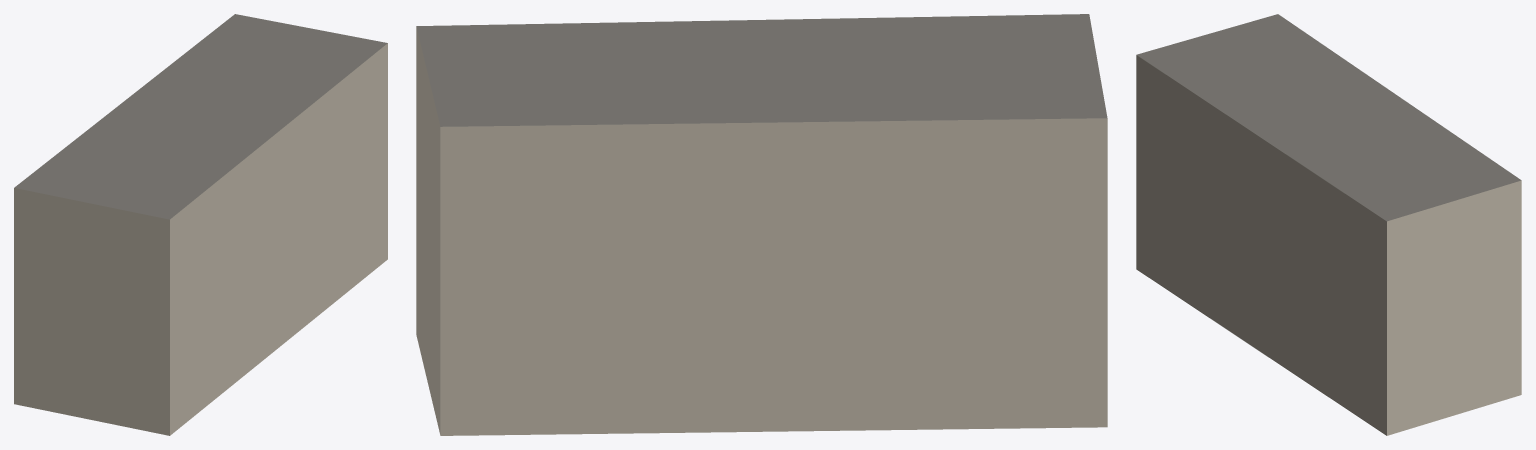
3 views of the same model, side by side, from view 1: azimuth 30°, elevation 25°; view 2: azimuth 150°, elevation 25°; view 3: azimuth 270°, elevation 25° (orthographic). The views are drawn at different scales.
Visible parts, largest first — view 1: HP-w505646894; view 2: HP-w505646894; view 3: HP-w505646894.
Boxes of the visible parts, x1,y1,x2,y2 form: HP-w505646894: (14,14,387,435); HP-w505646894: (416,14,1107,435); HP-w505646894: (1136,14,1521,435).
Bounding box in the file's own units: 31.11 × 15 × 24.44.
